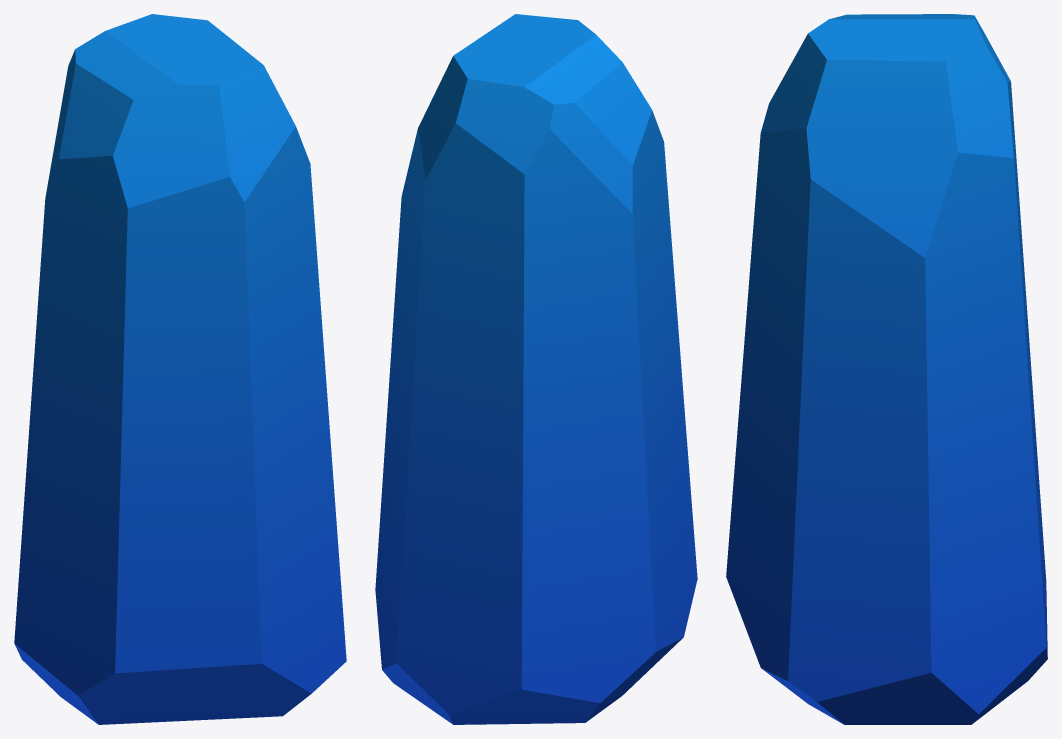
File: crystal_5.glb
3 renders of one model, left to right at view 1: azimuth 30°, elevation 25°; view 2: azimuth 150°, elevation 25°; view 3: azimuth 270°, elevation 25°, orthographic. The views are drawn at different scales.
Visible parts, largest first — view 1: crystal_5; view 2: crystal_5; view 3: crystal_5.
Part boxes in pixels (x1,y1,x2,y2): crystal_5: [14, 14, 346, 724]; crystal_5: [375, 14, 697, 724]; crystal_5: [726, 14, 1047, 724].
Size of the model in its own units: 3.2 by 6.87 by 3.13.
1 material, 1 textured.
